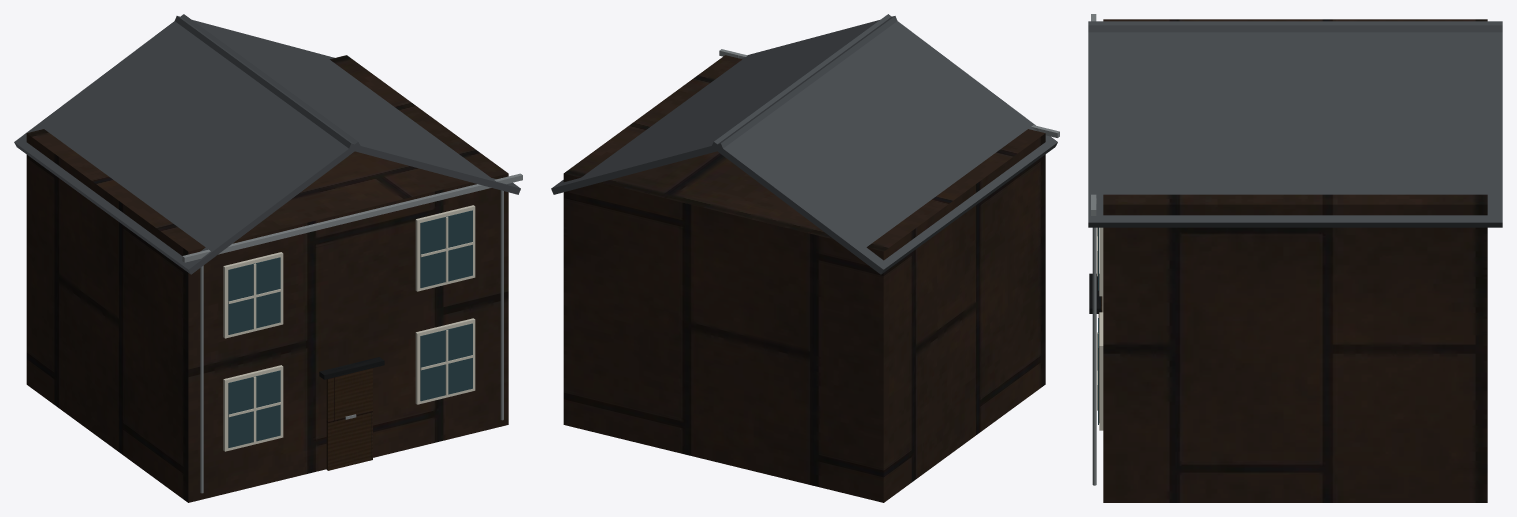
File: terrace-house.glb
3 views of the same model, side by side, from view 1: azimuth 30°, elevation 25°; view 2: azimuth 150°, elevation 25°; view 3: azimuth 270°, elevation 25° (orthographic). The views are drawn at different scales.
Visible parts, largest first — view 1: Brick shell, Pitched roof, Pitched roof.001, Front door, Window glass, Window glass.003, Window glass.002, Window glass.001, Gutter, Window frame.003, Window frame.005, Window frame.006 (+4 smaller); view 2: Brick shell, Pitched roof, Pitched roof.001; view 3: Brick shell, Pitched roof.001, Pitched roof, Downpipe.001, Window frame.004.
Part boxes in pixels (x1,y1,x2,y2): Brick shell: (26, 55, 508, 502); Pitched roof: (14, 14, 360, 274); Pitched roof.001: (174, 16, 520, 194); Front door: (326, 368, 372, 470); Window glass: (228, 370, 280, 447); Window glass.003: (420, 210, 472, 287); Window glass.002: (228, 257, 280, 334); Window glass.001: (420, 323, 472, 401); Gutter: (182, 173, 522, 262); Window frame.003: (223, 365, 283, 451); Window frame.005: (223, 252, 283, 338); Window frame.006: (415, 205, 475, 291); Brick shell: (563, 55, 1045, 502); Pitched roof: (711, 14, 1057, 274); Pitched roof.001: (551, 16, 897, 194); Brick shell: (1103, 19, 1487, 502); Pitched roof.001: (1088, 21, 1502, 227); Pitched roof: (1088, 25, 1502, 32); Downpipe.001: (1092, 198, 1096, 485); Window frame.004: (1099, 312, 1103, 430).
Bounding box in the file's own units: 8.45 × 7.78 × 7.55.
Materials: 7 (3 with a texture image).
